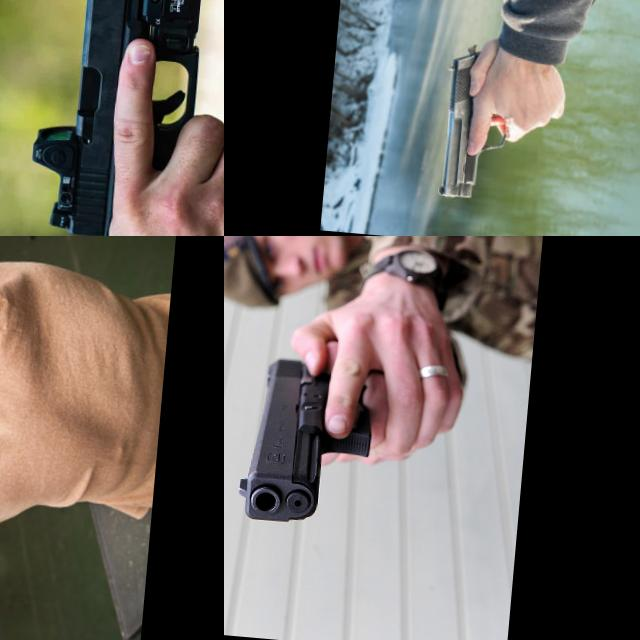handgun: (22, 0, 211, 236), (234, 352, 379, 530), (432, 41, 515, 207), (0, 488, 23, 545)
